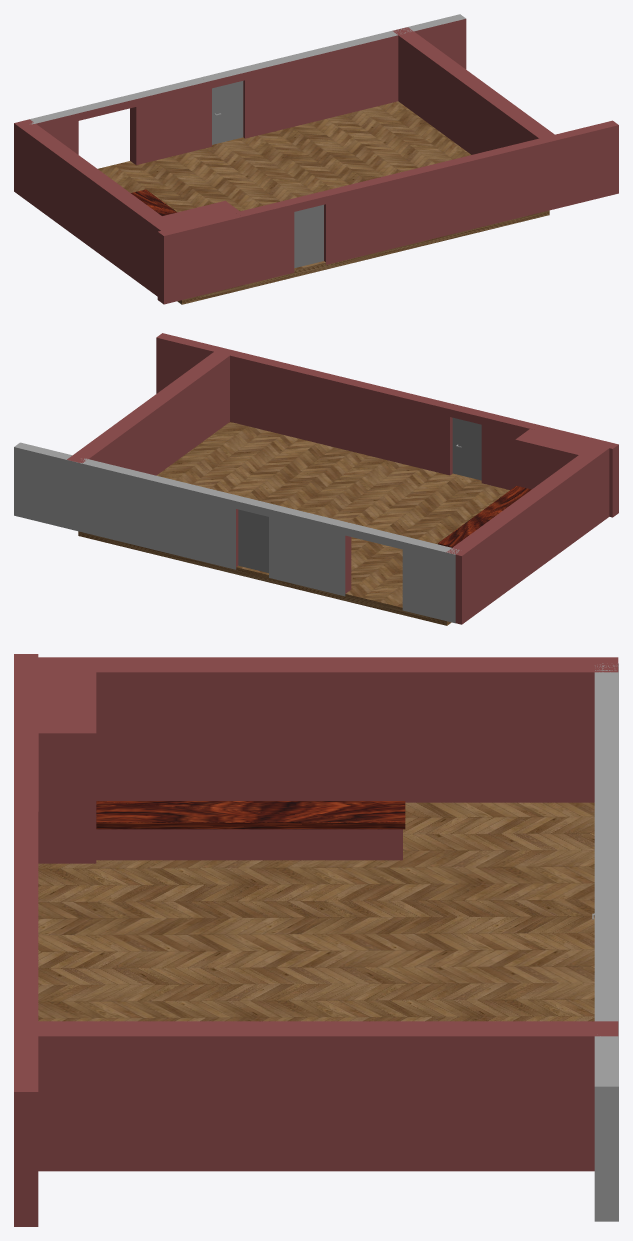
Rendered from Stage3Room.fbx.
3 views of the same model, one above another, from view 1: azimuth 30°, elevation 25°; view 2: azimuth 150°, elevation 25°; view 3: azimuth 270°, elevation 25° (orthographic). The views are drawn at different scales.
Parts seen in each view (by area): view 1: pasted__pasted__pasted__pCube2 (×3), pCube1, pasted__pCube2, pasted__pasted__pasted__pasted__pCube2 (×2), pCube2, pasted__pasted__pCube2, pasted__pasted__pasted__pasted__pasted__pCube2 (×2), pCube3, pCube50, pasted__pasted__pasted__pasted__pasted__pCube3, pasted__pasted__pasted__pasted__pasted__pasted__pasted__pCub; view 2: pasted__pasted__pasted__pCube2 (×3), pCube1, pasted__pCube2, pCube2, pasted__pasted__pCube2, pasted__pasted__pasted__pasted__pCube2 (×2), pasted__pasted__pasted__pasted__pasted__pCube2 (×2), pCube3, pCube50, pasted__pasted__pasted__pasted__pasted__pasted__pasted__pCub, pasted__pasted__pasted__pasted__pasted__pCube3; view 3: pCube1, pCube2, pasted__pCube2, pasted__pasted__pasted__pCube2 (×3), pasted__pasted__pasted__pasted__pasted__pCube2 (×2), pasted__pasted__pasted__pasted__pasted__pasted__pCube2, pasted__pasted__pasted__pasted__pasted__pasted__pasted__pCub, pasted__pasted__pasted__pasted__pCube2 (×2), pasted__pasted__pasted__pasted__pasted__pCube3, pasted__pasted__pCube2.
Part boxes in pixels (left/top/right/bottom): pasted__pasted__pasted__pCube2 (×3): left=27, top=14, right=618, bottom=264; pCube1: left=98, top=101, right=549, bottom=304; pasted__pCube2: left=14, top=119, right=181, bottom=296; pasted__pasted__pasted__pasted__pCube2 (×2): left=72, top=94, right=294, bottom=304; pCube2: left=392, top=27, right=560, bottom=154; pasted__pasted__pCube2: left=130, top=77, right=211, bottom=165; pasted__pasted__pasted__pasted__pasted__pCube2 (×2): left=159, top=63, right=266, bottom=228; pCube3: left=212, top=81, right=243, bottom=144; pCube50: left=294, top=204, right=323, bottom=268; pasted__pasted__pasted__pasted__pasted__pCube3: left=236, top=191, right=327, bottom=216; pasted__pasted__pasted__pasted__pasted__pasted__pasted__pCub: left=131, top=189, right=176, bottom=215; pasted__pasted__pasted__pCube2 (×3): left=14, top=333, right=459, bottom=623; pCube1: left=78, top=422, right=509, bottom=625; pasted__pCube2: left=446, top=443, right=609, bottom=624; pCube2: left=67, top=347, right=235, bottom=475; pasted__pasted__pCube2: left=269, top=506, right=351, bottom=596; pasted__pasted__pasted__pasted__pCube2 (×2): left=344, top=425, right=618, bottom=549; pasted__pasted__pasted__pasted__pasted__pCube2 (×2): left=214, top=429, right=597, bottom=516; pCube3: left=238, top=509, right=268, bottom=572; pCube50: left=452, top=417, right=481, bottom=480; pasted__pasted__pasted__pasted__pasted__pasted__pasted__pCub: left=438, top=486, right=531, bottom=547; pasted__pasted__pasted__pasted__pasted__pCube3: left=448, top=404, right=539, bottom=434; pCube1: left=38, top=802, right=594, bottom=1021; pCube2: left=14, top=1021, right=618, bottom=1171; pasted__pCube2: left=14, top=657, right=618, bottom=802; pasted__pasted__pasted__pCube2 (×3): left=14, top=663, right=618, bottom=1226; pasted__pasted__pasted__pasted__pasted__pCube2 (×2): left=35, top=669, right=618, bottom=894; pasted__pasted__pasted__pasted__pasted__pasted__pCube2: left=96, top=829, right=402, bottom=860; pasted__pasted__pasted__pasted__pasted__pasted__pasted__pCub: left=96, top=801, right=405, bottom=829; pasted__pasted__pasted__pasted__pCube2 (×2): left=14, top=654, right=618, bottom=769; pasted__pasted__pasted__pasted__pasted__pCube3: left=14, top=729, right=38, bottom=826; pasted__pasted__pCube2: left=594, top=770, right=618, bottom=837.
Size of the model in its own units: 12.36 by 1.9 by 7.21.
Materials: 5 (2 with a texture image).
